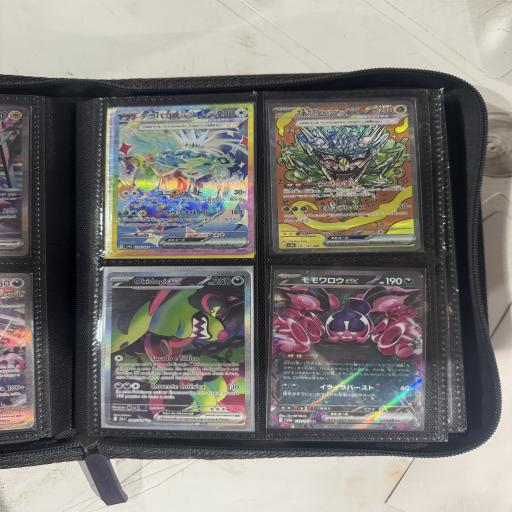card: (269, 269, 425, 430), (103, 267, 254, 430), (266, 97, 420, 256), (106, 103, 254, 258)
